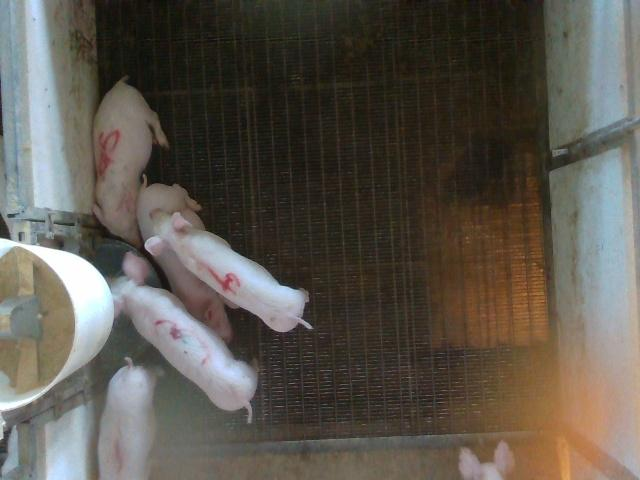pig-1: (99, 358, 156, 478)
pig-3: (110, 252, 258, 419)
pig-4: (145, 212, 312, 332)
pig-5: (92, 76, 169, 247)
